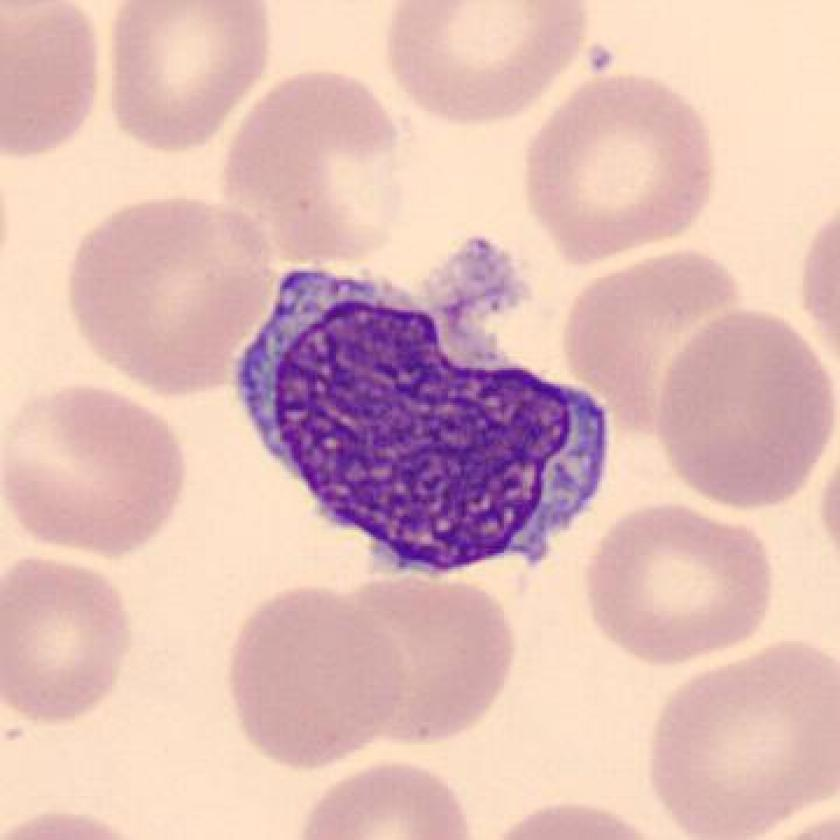monocyte: (218, 214, 629, 598)
